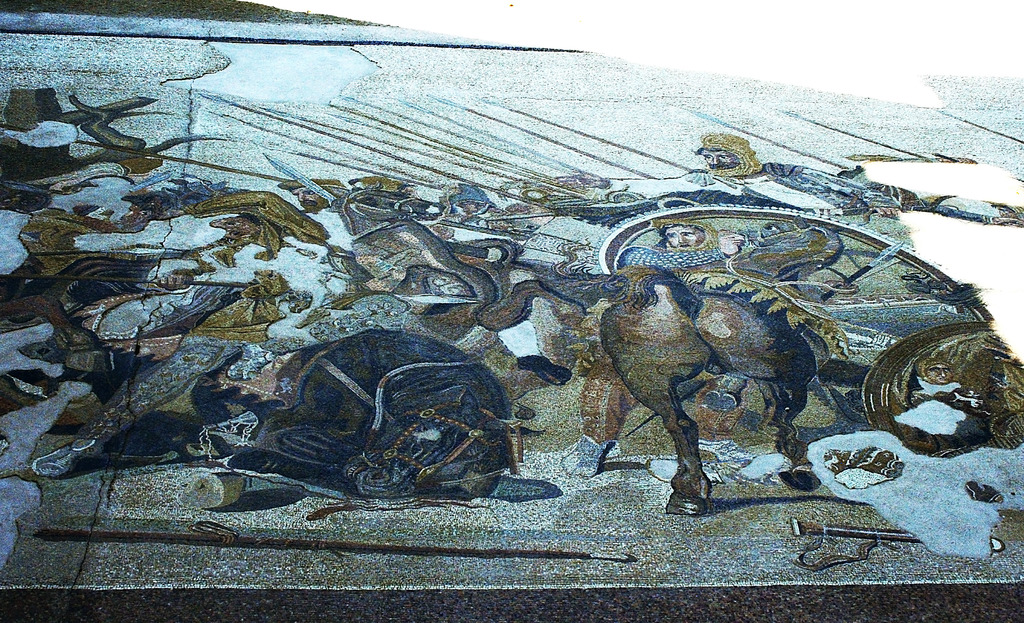Animal: (219, 317, 540, 506)
